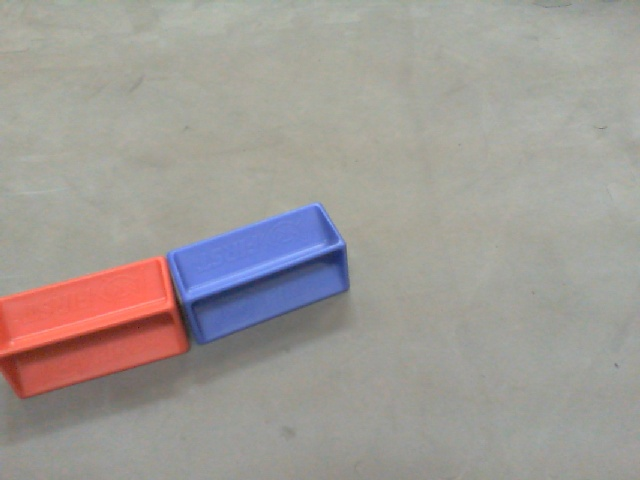BlueSample: (164, 201, 356, 344)
RedSample: (1, 254, 192, 397)
